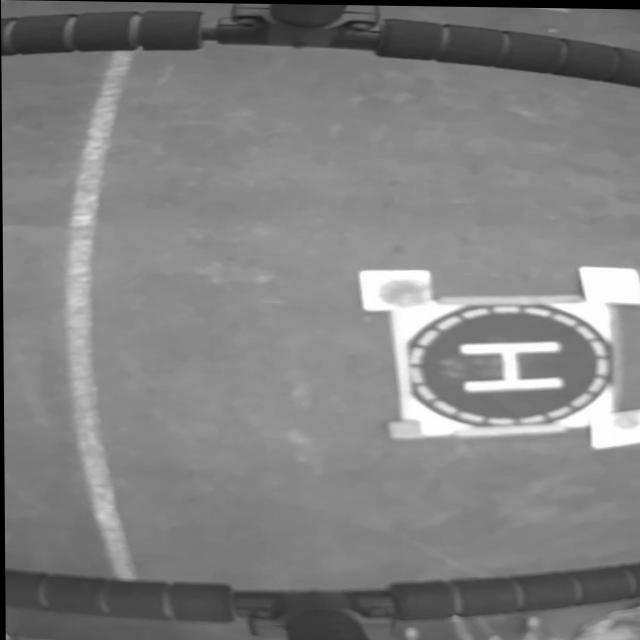Helipad: (458, 339, 564, 392)
